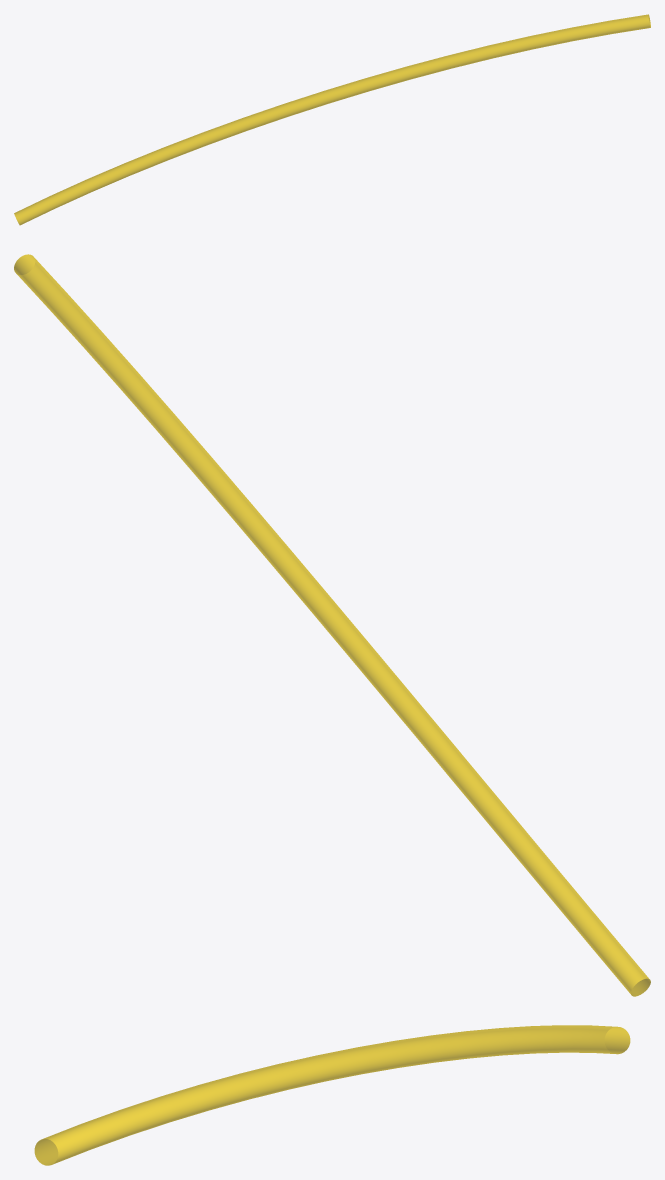
File: Event_31209032_track_9.fbx
3 views of the same model, one above another, from view 1: azimuth 30°, elevation 25°; view 2: azimuth 150°, elevation 25°; view 3: azimuth 270°, elevation 25° (orthographic). The views are drawn at different scales.
Visible parts, largest first — view 1: Model; view 2: Model; view 3: Model.
Part boxes in pixels (x1,y1,x2,y2): Model: [14, 14, 650, 225]; Model: [14, 254, 650, 996]; Model: [34, 1025, 630, 1165].
Size of the model in its own units: 1.66 by 0.6248 by 0.865.
